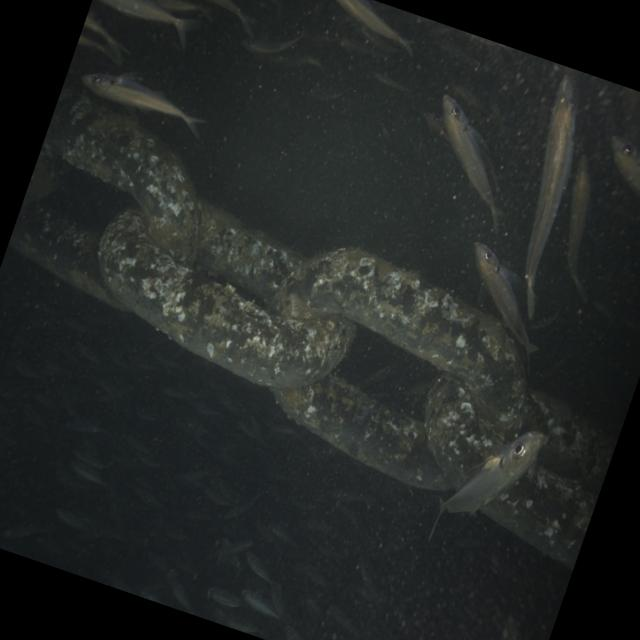ChainLink: (272, 248, 526, 431), (98, 211, 353, 388), (44, 91, 198, 259), (273, 374, 449, 489), (481, 462, 597, 568), (10, 203, 123, 306), (196, 206, 302, 303), (424, 375, 499, 487), (516, 393, 613, 475)
